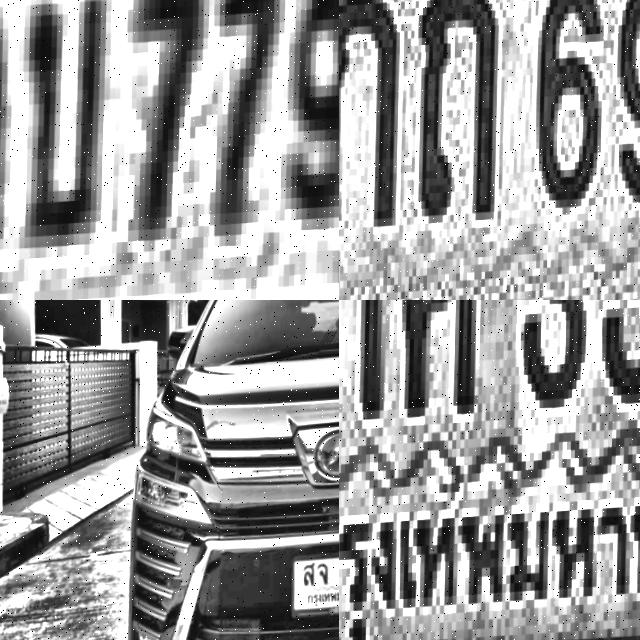license-plate: (339, 300, 640, 640), (0, 0, 339, 300), (339, 0, 640, 300), (288, 554, 339, 626)
